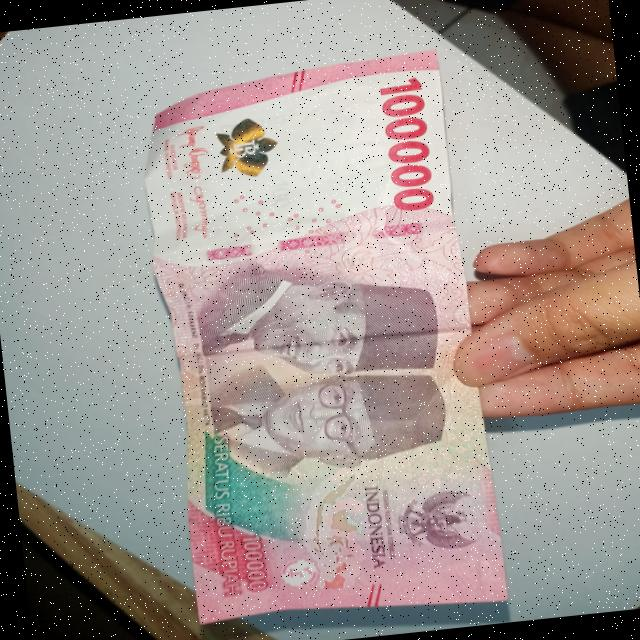100K: (126, 31, 525, 640)
